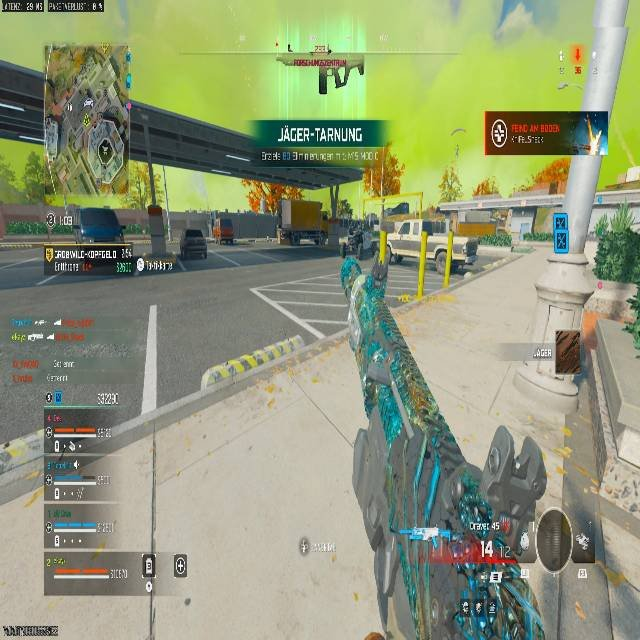player: (341, 222, 381, 299)
